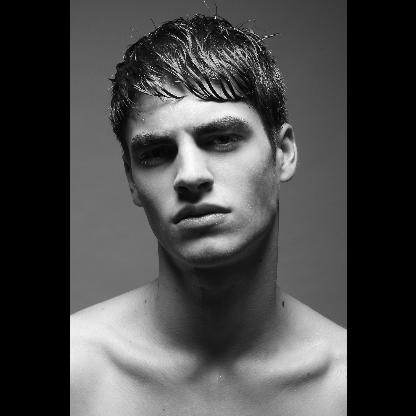Male: (122, 83, 298, 261)
